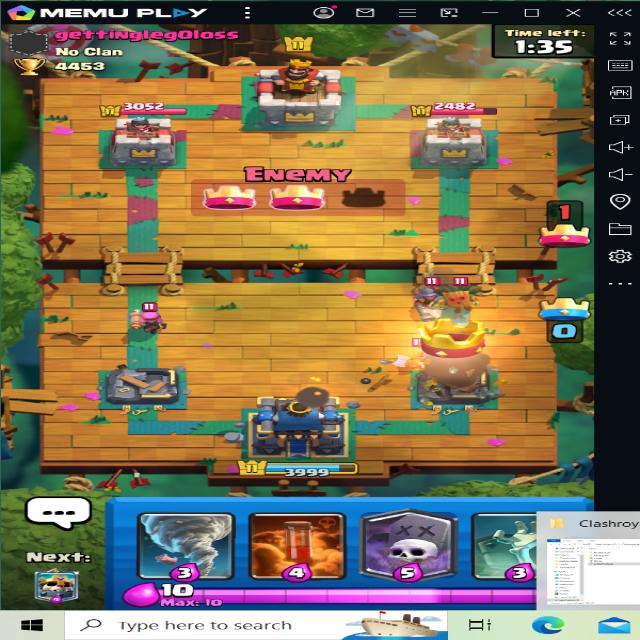Dartgoblin: (435, 276, 497, 313)
Firecracker: (128, 302, 178, 334)
Musketeer: (410, 276, 456, 322)
